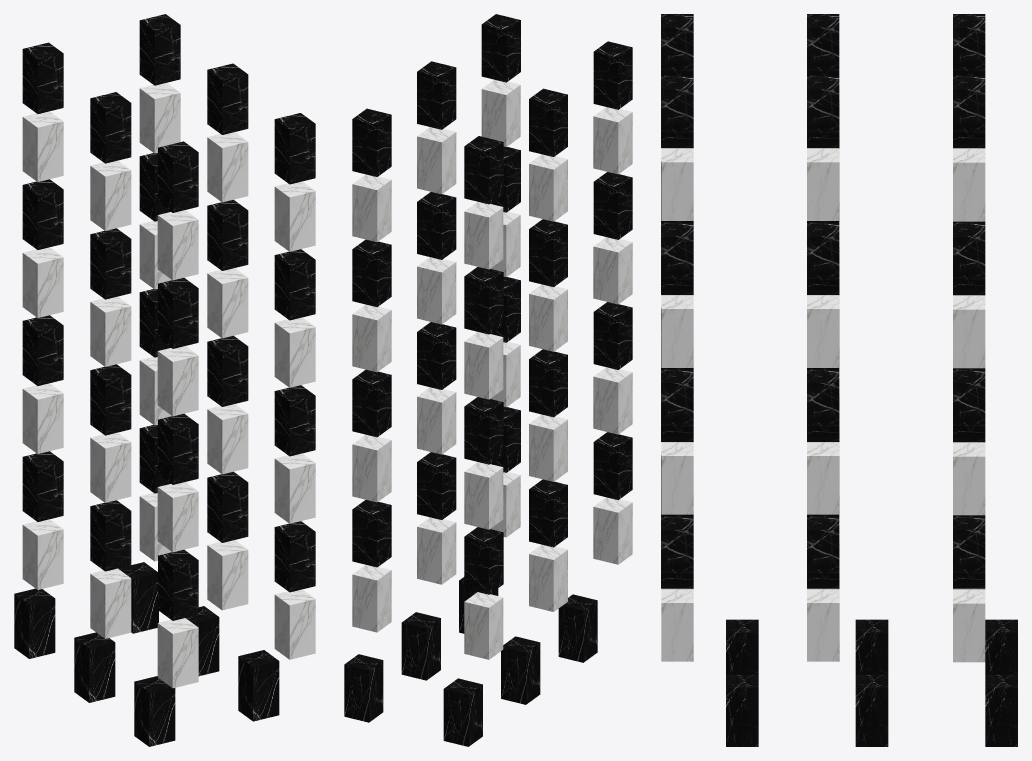
Rendered from Columnas.glb.
3 views of the same model, side by side, from view 1: azimuth 30°, elevation 25°; view 2: azimuth 150°, elevation 25°; view 3: azimuth 270°, elevation 25° (orthographic). The views are drawn at different scales.
Visible parts, largest first — view 1: Cube.042, Cube.043, Cube.060, Cube.027, Cube.041, Cube.044, Cube.048, Cube.026, Cube.031, Cube.007, Cube.023, Cube.034 (+42 smaller); view 2: Cube.048, Cube.043, Cube.055, Cube.056, Cube.042, Cube.045, Cube.041, Cube.058, Cube.025, Cube.034, Cube.015, Cube.006 (+41 smaller); view 3: Cube.055, Cube.018, Cube.046, Cube.061, Cube.010, Cube.020, Cube.008, Cube.030, Cube.033, Cube.037, Cube.040, Cube.005 (+21 smaller).
Boxes of the visible parts, x1,y1,x2,y2 form: Cube.042: (207,63,248,134); Cube.043: (22,42,63,113); Cube.060: (238,650,279,721); Cube.027: (274,249,315,320); Cube.041: (139,14,180,85); Cube.044: (90,92,131,163); Cube.048: (274,113,315,184); Cube.026: (274,385,315,456); Cube.031: (90,228,131,299); Cube.007: (274,521,315,592); Cube.023: (90,364,131,435); Cube.034: (207,199,248,270); Cube.048: (481,14,520,82); Cube.043: (464,136,503,204); Cube.055: (401,612,440,680); Cube.056: (344,654,383,722); Cube.042: (417,61,456,129); Cube.045: (593,41,632,109); Cube.041: (352,108,391,176); Cube.058: (443,678,482,746); Cube.025: (593,302,632,369); Cube.034: (417,192,456,259); Cube.015: (417,452,456,519); Cube.006: (417,322,456,389); Cube.055: (855,674,888,746); Cube.018: (953,589,985,662); Cube.046: (661,295,693,367); Cube.061: (807,295,839,367); Cube.010: (661,589,693,661); Cube.020: (807,589,839,661); Cube.008: (807,442,839,514); Cube.030: (661,442,693,514); Cube.033: (807,148,839,220); Cube.037: (953,149,985,221); Cube.040: (661,148,693,220); Cube.005: (953,369,985,441).
Bounding box in the file's own units: 11 × 45 × 22.01.
11 materials, 11 textured.
